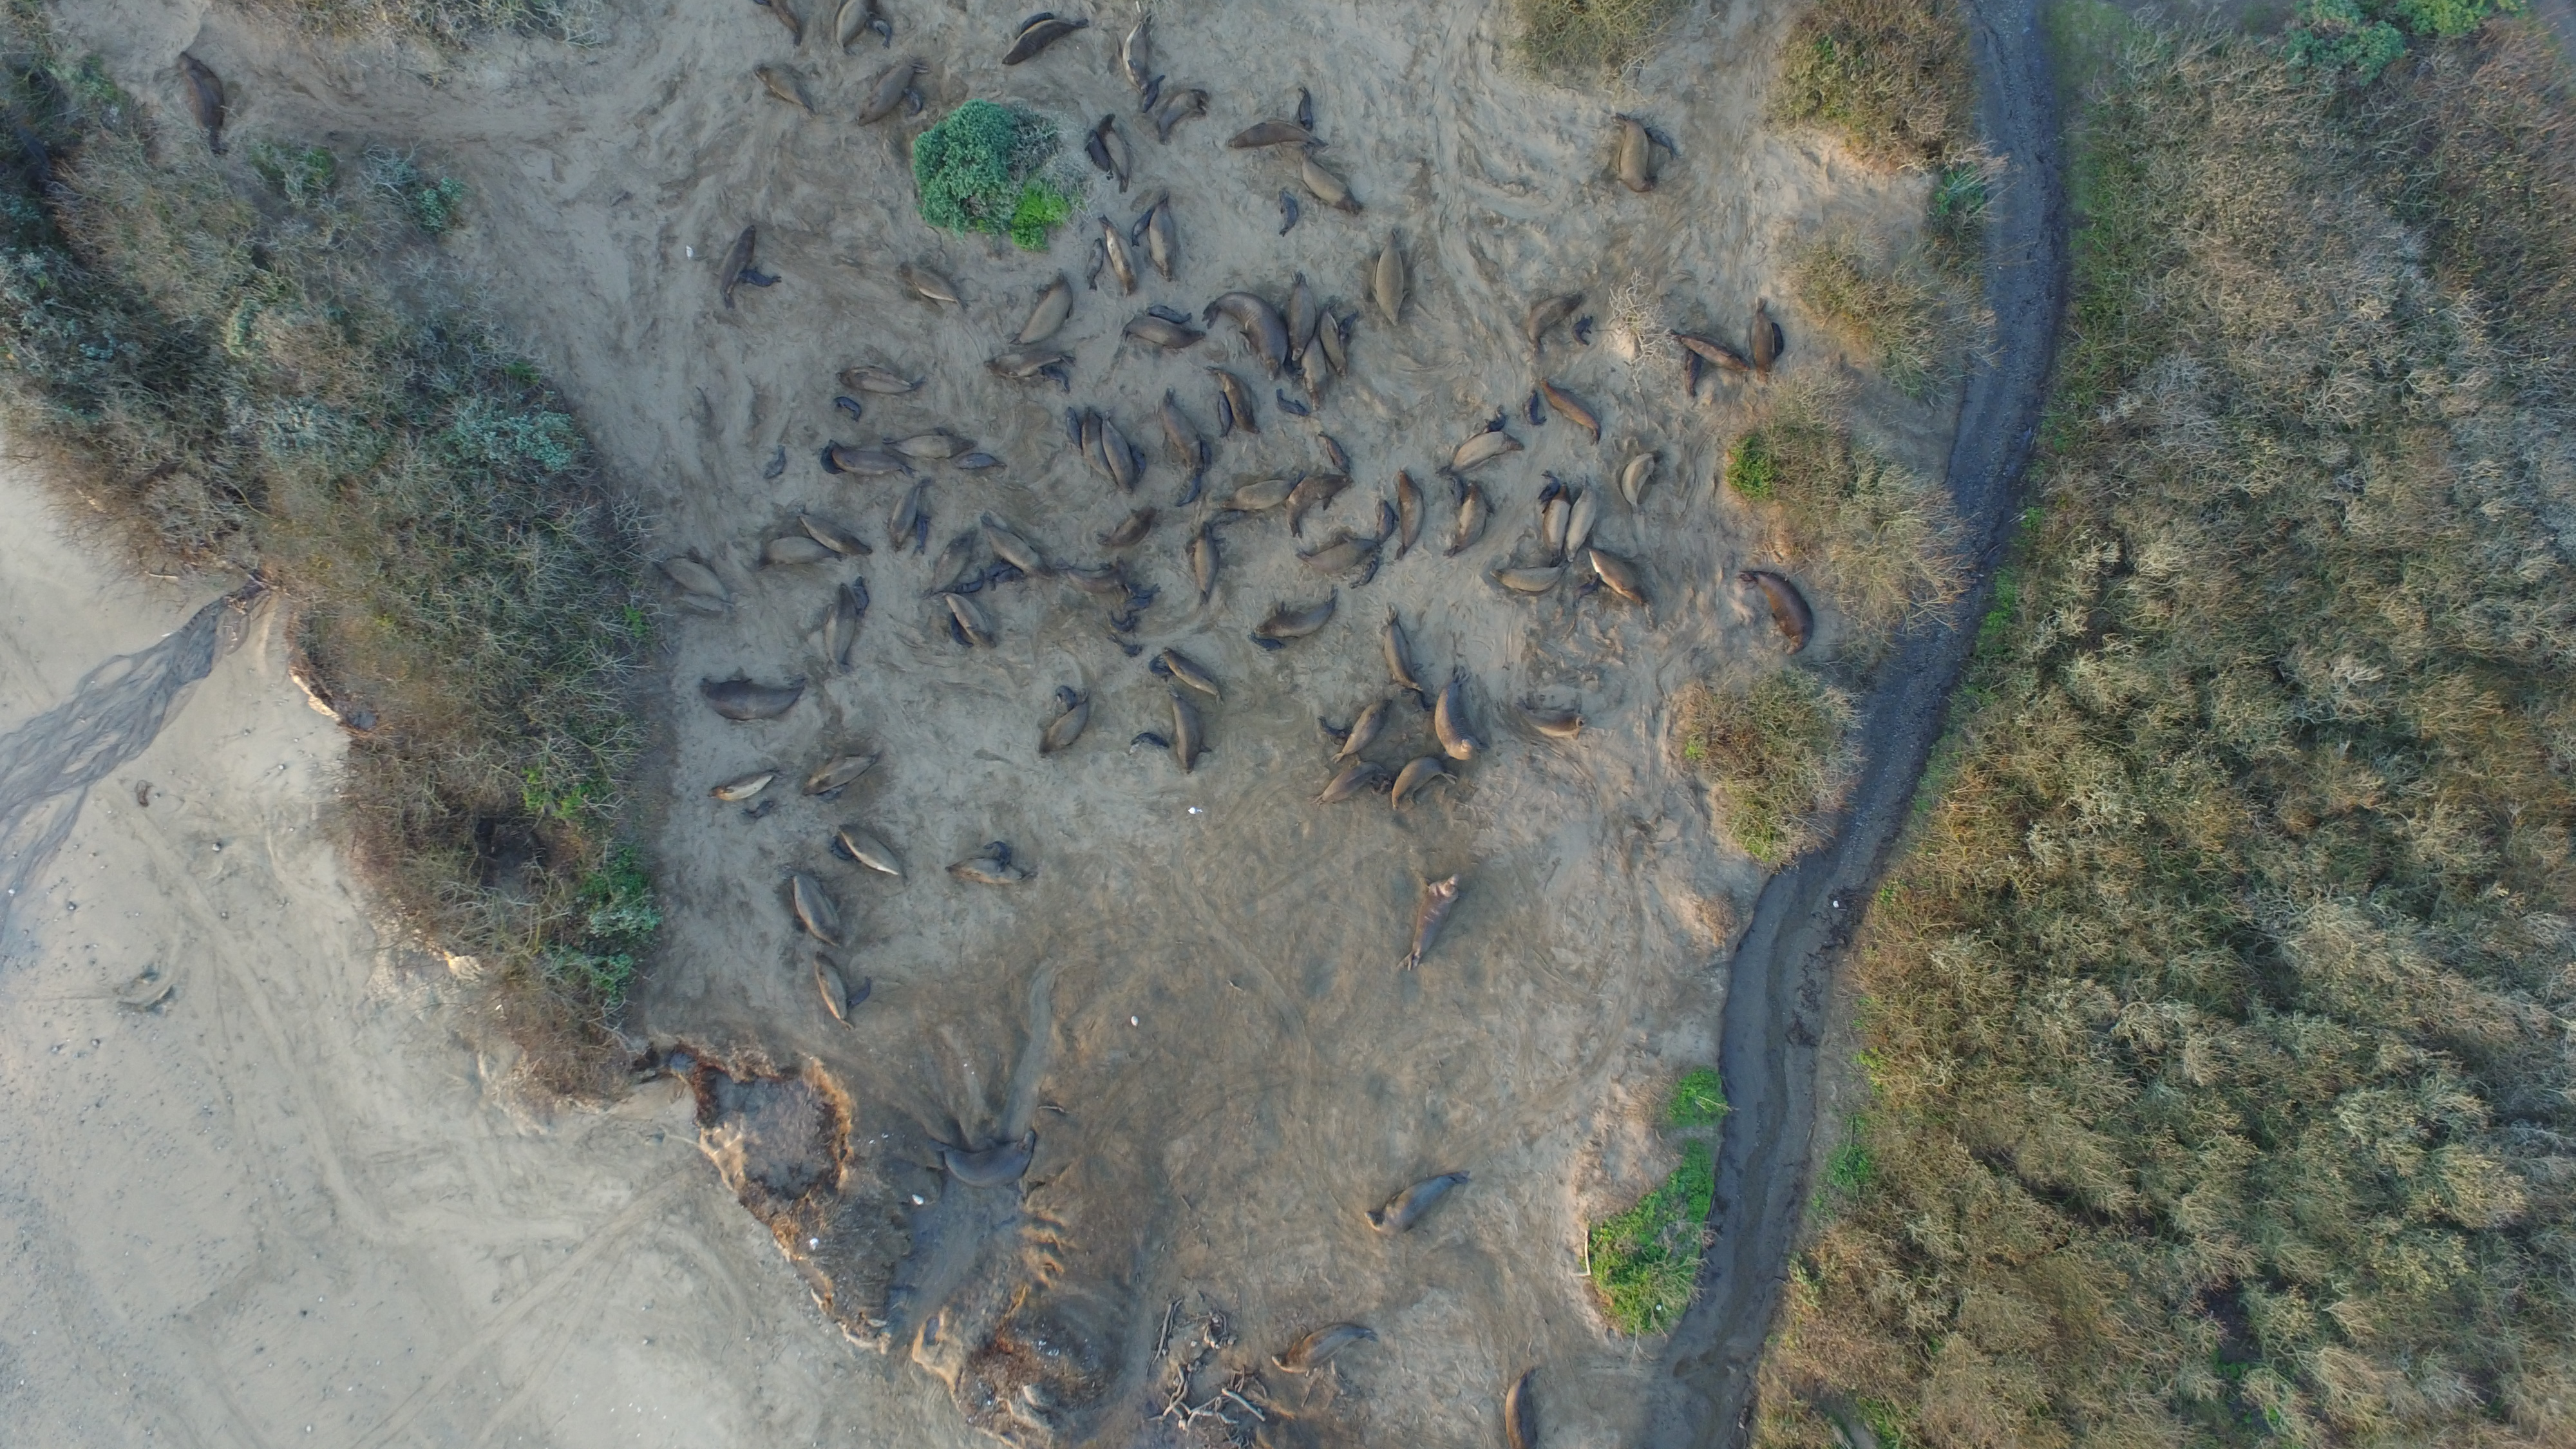adult male: (1350, 1168, 1477, 1238), (1201, 292, 1293, 386), (1737, 568, 1819, 660), (1261, 1318, 1385, 1378), (929, 1132, 1042, 1192), (694, 672, 810, 724), (1401, 869, 1470, 955), (1433, 672, 1491, 764), (1491, 1366, 1553, 1449), (1283, 472, 1353, 540), (1507, 701, 1594, 740)
male juvenile / female juvenile / adult female: (166, 50, 244, 165), (846, 53, 925, 134), (778, 865, 851, 947), (977, 517, 1063, 584), (828, 821, 918, 885), (1274, 471, 1357, 540), (1292, 149, 1371, 219), (994, 14, 1090, 73), (1583, 547, 1661, 617), (1010, 269, 1077, 347), (1534, 379, 1612, 446), (787, 506, 881, 561), (1376, 616, 1435, 702), (1157, 692, 1215, 777), (796, 747, 888, 800), (1092, 214, 1150, 297), (922, 524, 980, 607), (709, 221, 763, 310), (748, 64, 830, 120), (1384, 755, 1458, 817), (1608, 113, 1661, 200), (1246, 594, 1345, 640), (1366, 234, 1412, 333), (1224, 117, 1330, 159), (1668, 327, 1753, 380), (817, 579, 863, 676), (1136, 198, 1187, 285), (1442, 478, 1493, 564), (1145, 88, 1221, 147), (1155, 642, 1231, 701), (893, 264, 984, 311), (651, 556, 741, 603), (1442, 430, 1534, 476), (1115, 9, 1161, 97), (1292, 320, 1338, 409), (1116, 313, 1212, 356), (1095, 115, 1145, 195), (1035, 695, 1099, 757), (977, 347, 1077, 386), (824, 442, 920, 483), (1274, 272, 1316, 363), (1292, 540, 1384, 580), (1212, 476, 1302, 517), (1525, 294, 1583, 356), (748, 533, 849, 568), (1315, 308, 1361, 384), (945, 855, 1042, 890), (1391, 471, 1426, 566), (833, 366, 927, 402), (824, 0, 883, 57), (1309, 766, 1389, 807), (1100, 504, 1164, 554), (1185, 527, 1226, 602), (1746, 294, 1778, 387), (701, 768, 782, 803), (885, 432, 984, 460), (1486, 563, 1569, 596), (1562, 481, 1596, 563), (755, 0, 812, 48), (1617, 449, 1660, 513), (1541, 483, 1571, 568), (1083, 235, 1109, 294)
pup: (1081, 129, 1120, 182), (1270, 188, 1309, 241), (1640, 124, 1688, 166), (1316, 430, 1359, 476), (1677, 349, 1711, 405), (939, 612, 982, 656), (1366, 499, 1401, 552), (975, 839, 1023, 878), (1169, 469, 1208, 513), (1058, 403, 1090, 455), (1518, 387, 1553, 433), (1033, 363, 1077, 398), (1047, 681, 1092, 717), (1292, 87, 1323, 134), (1212, 389, 1240, 442), (1569, 568, 1612, 603), (1138, 73, 1169, 119), (1125, 442, 1157, 488), (862, 14, 899, 53), (732, 267, 786, 294), (846, 577, 878, 621), (1139, 304, 1200, 327), (1274, 387, 1311, 425), (1568, 310, 1599, 352), (1346, 557, 1384, 593), (759, 446, 793, 485), (817, 442, 849, 483), (1313, 715, 1357, 743), (897, 83, 929, 122), (824, 837, 863, 869), (911, 513, 938, 559), (1125, 732, 1171, 759), (1766, 320, 1792, 366), (1145, 653, 1180, 686), (832, 395, 869, 426), (1476, 405, 1513, 437), (1238, 633, 1293, 655), (1108, 635, 1150, 662), (736, 798, 780, 823), (1129, 209, 1155, 249), (1007, 12, 1062, 32), (954, 571, 989, 602), (1532, 476, 1562, 511), (1120, 584, 1166, 607), (1104, 610, 1145, 635), (952, 453, 1008, 471), (1205, 508, 1254, 527), (991, 566, 1028, 587)
